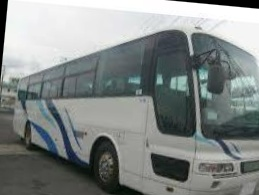bus: (8, 17, 259, 195)
